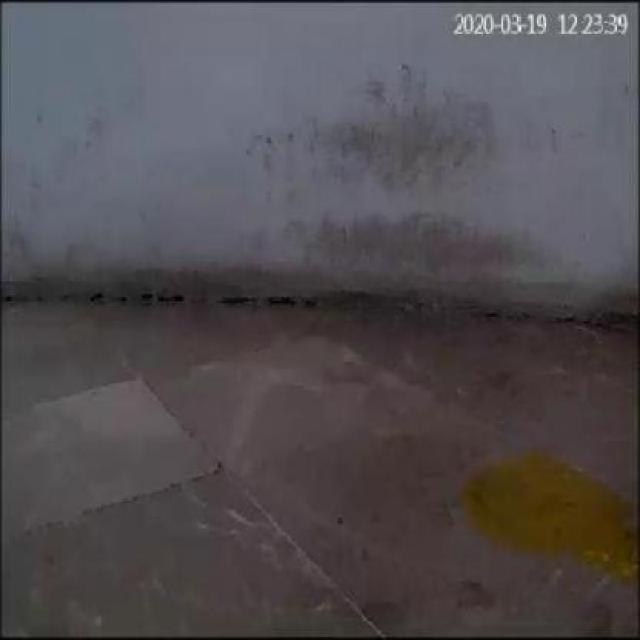spillage: (456, 452, 635, 582)
